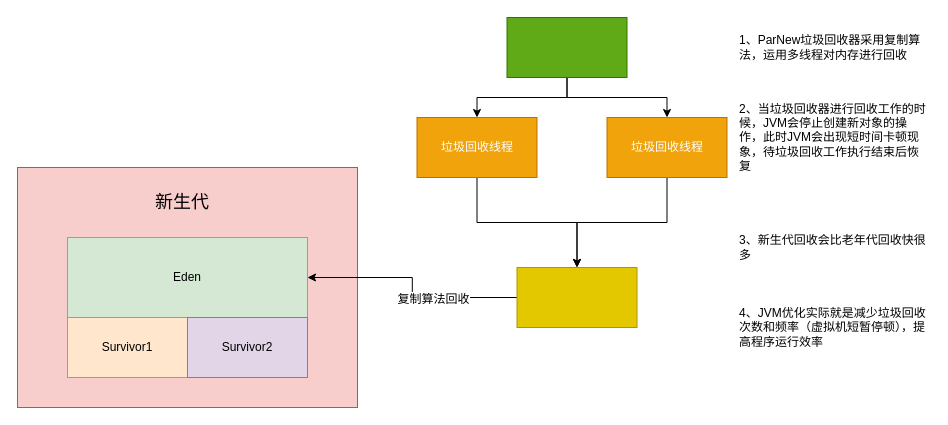
Some shapes in this 948 by 425 pixel diagram are drawn without their labels. Here are the shapes that lost their labels. From the top down, the centre of each, then its label:
(x=566, y=47): 垃圾回收器 (ParNew)
(x=576, y=297): 垃圾回收算法 （复制算法）
